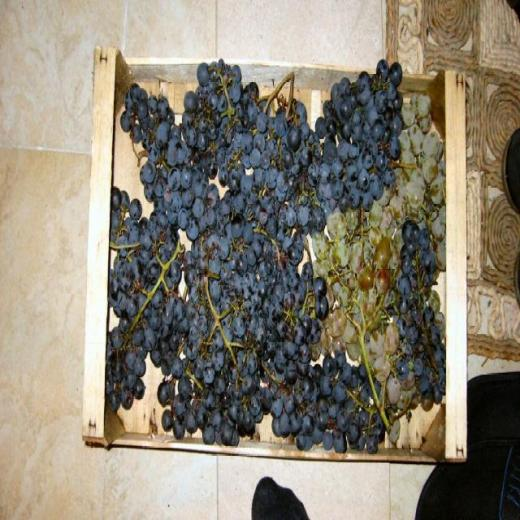Orange: (109, 58, 444, 444)
